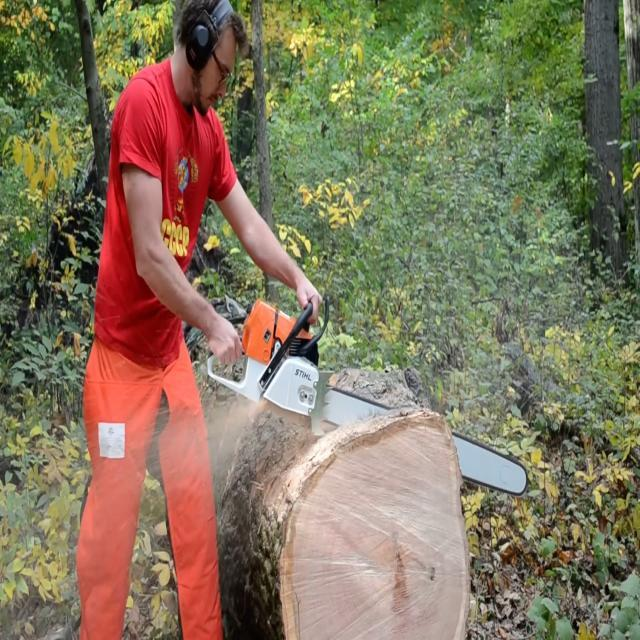Chainsaw: (195, 270, 535, 530)
